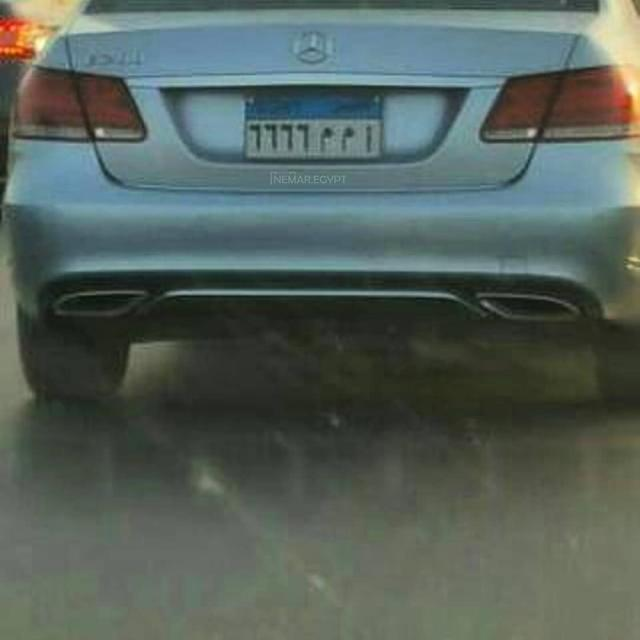License Plate: (240, 87, 386, 161)
